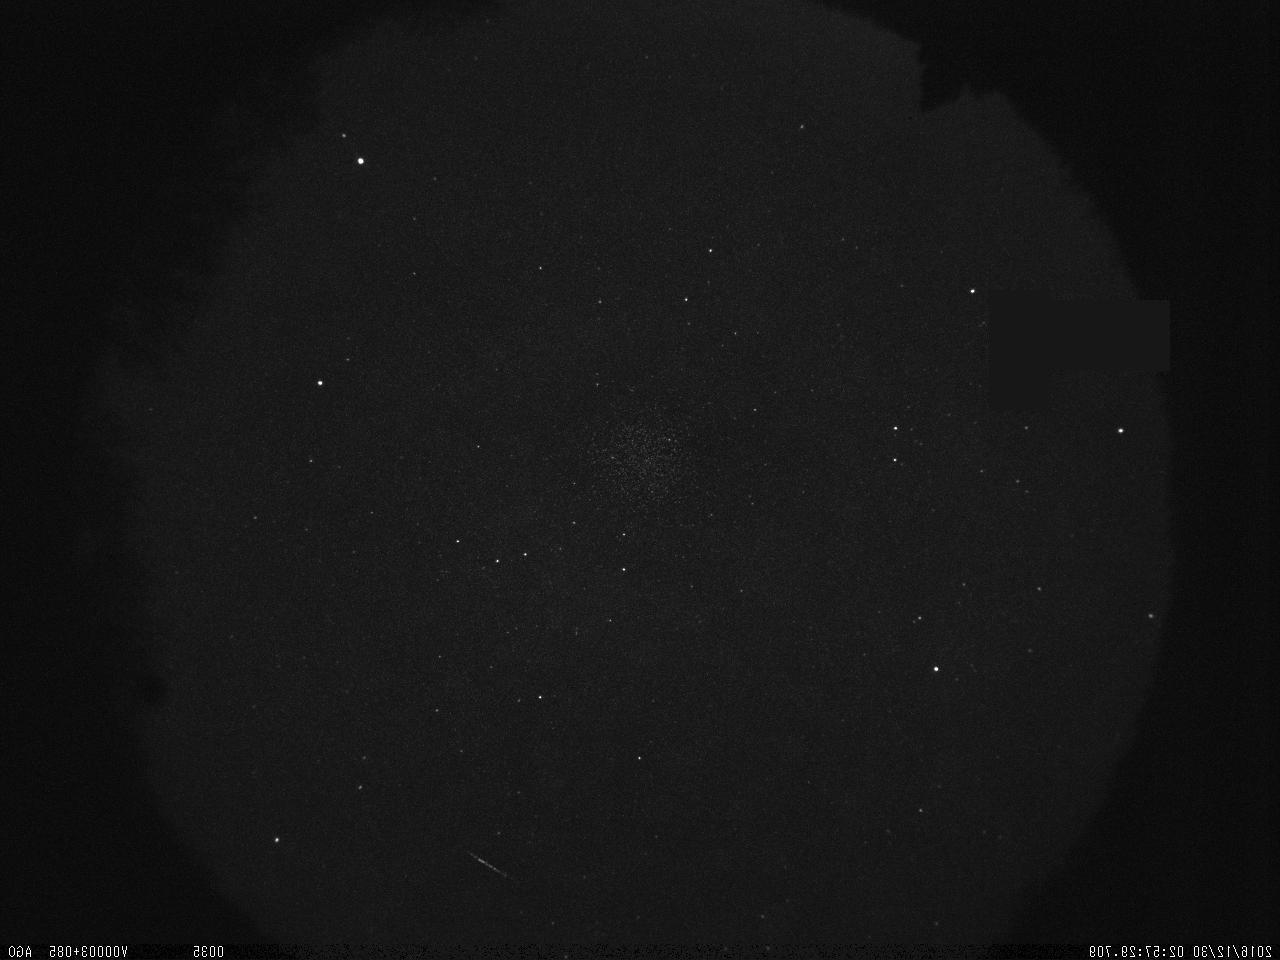meteor: (458, 841, 513, 880)
